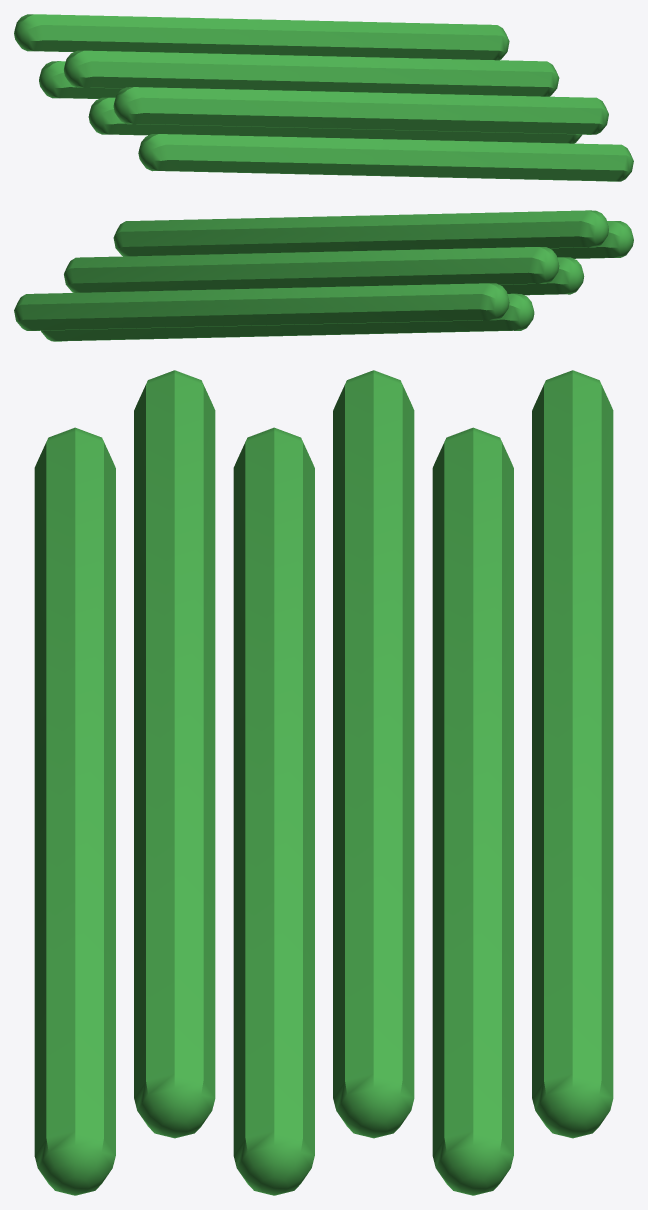
The model's file is Green_Beans.fbx.
The picture shows the model from 3 angles, top to bottom: view 1: azimuth 30°, elevation 25°; view 2: azimuth 150°, elevation 25°; view 3: azimuth 270°, elevation 25°; orthographic projection. The views are drawn at different scales.
Parts seen in each view (by area): view 1: Green_Beans; view 2: Green_Beans; view 3: Green_Beans.
Boxes of the visible parts, x1,y1,x2,y2 form: Green_Beans: (14, 14, 633, 181); Green_Beans: (14, 210, 633, 341); Green_Beans: (34, 370, 613, 1195).
Size of the model in its own units: 0.1252 by 0.0456 by 0.064.
